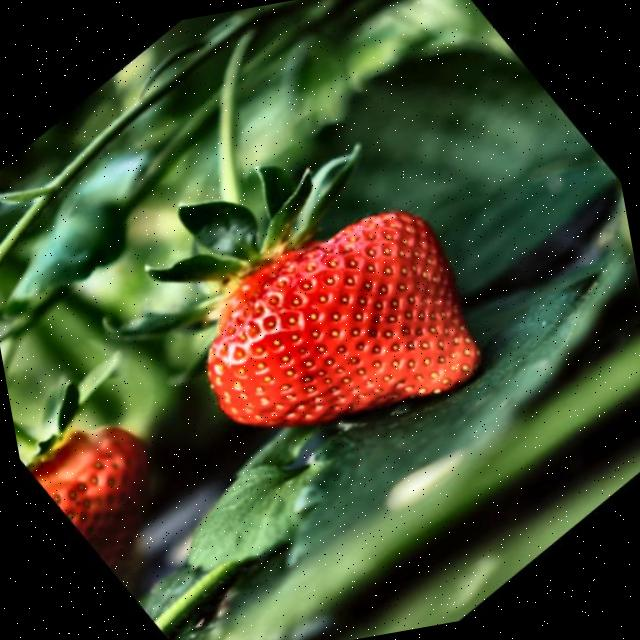strawberry: (207, 211, 479, 425), (32, 427, 148, 566)
